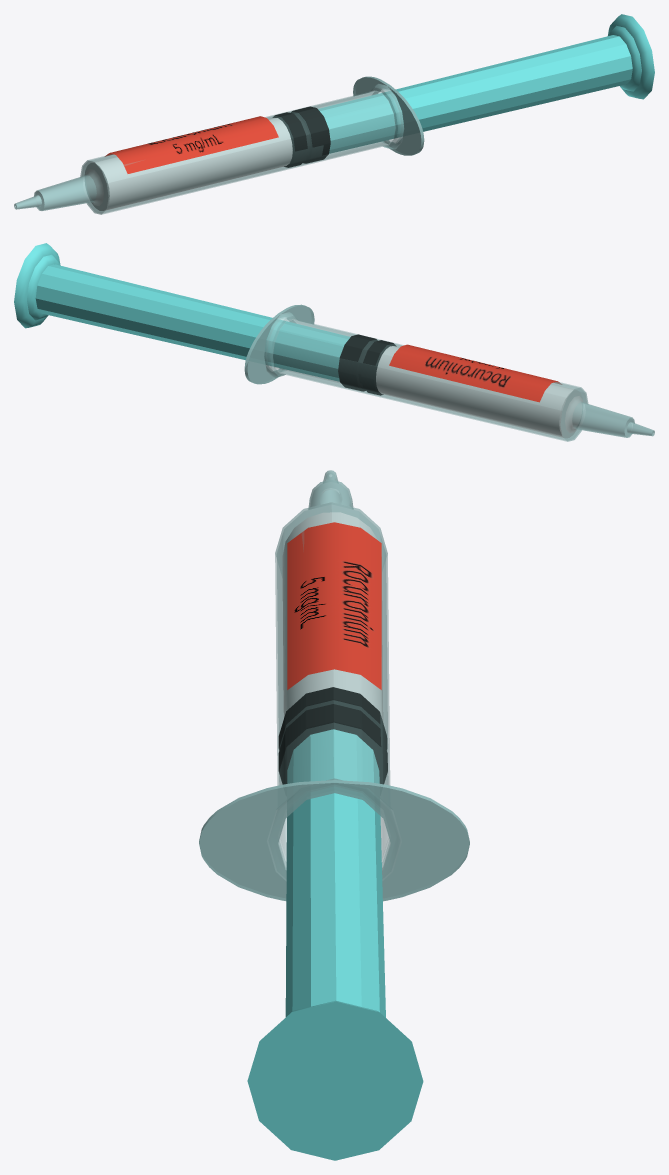
Rendered from SyringeRocuronium.FBX.
3 views of the same model, one above another, from view 1: azimuth 30°, elevation 25°; view 2: azimuth 150°, elevation 25°; view 3: azimuth 270°, elevation 25° (orthographic). The views are drawn at different scales.
Parts seen in each view (by area): view 1: pusher, body, drug, Plane001, head, protector, trigger001; view 2: pusher, body, drug, Plane001, head, protector, trigger001; view 3: pusher, trigger001, protector, body, Plane001, drug, head.
Boxes of the visible parts, left/top/right/bottom form: pusher: left=272, top=35, right=632, bottom=167; body: left=82, top=91, right=395, bottom=214; drug: left=85, top=118, right=292, bottom=210; Plane001: left=105, top=116, right=278, bottom=173; head: left=14, top=160, right=108, bottom=214; protector: left=353, top=76, right=424, bottom=155; trigger001: left=608, top=14, right=654, bottom=99; pusher: left=35, top=264, right=396, bottom=395; body: left=273, top=319, right=586, bottom=441; drug: left=376, top=346, right=582, bottom=437; Plane001: left=389, top=344, right=561, bottom=402; head: left=560, top=387, right=654, bottom=441; protector: left=244, top=304, right=314, bottom=384; trigger001: left=14, top=243, right=60, bottom=328; pusher: left=278, top=687, right=387, bottom=1017; trigger001: left=247, top=1000, right=423, bottom=1160; protector: left=199, top=778, right=469, bottom=901; body: left=275, top=502, right=389, bottom=861; Plane001: left=287, top=522, right=381, bottom=689; drug: left=282, top=512, right=383, bottom=722; head: left=275, top=470, right=387, bottom=573.
Bounding box in the file's own units: 13.09 × 1.62 × 2.49.
8 materials, 1 textured.
